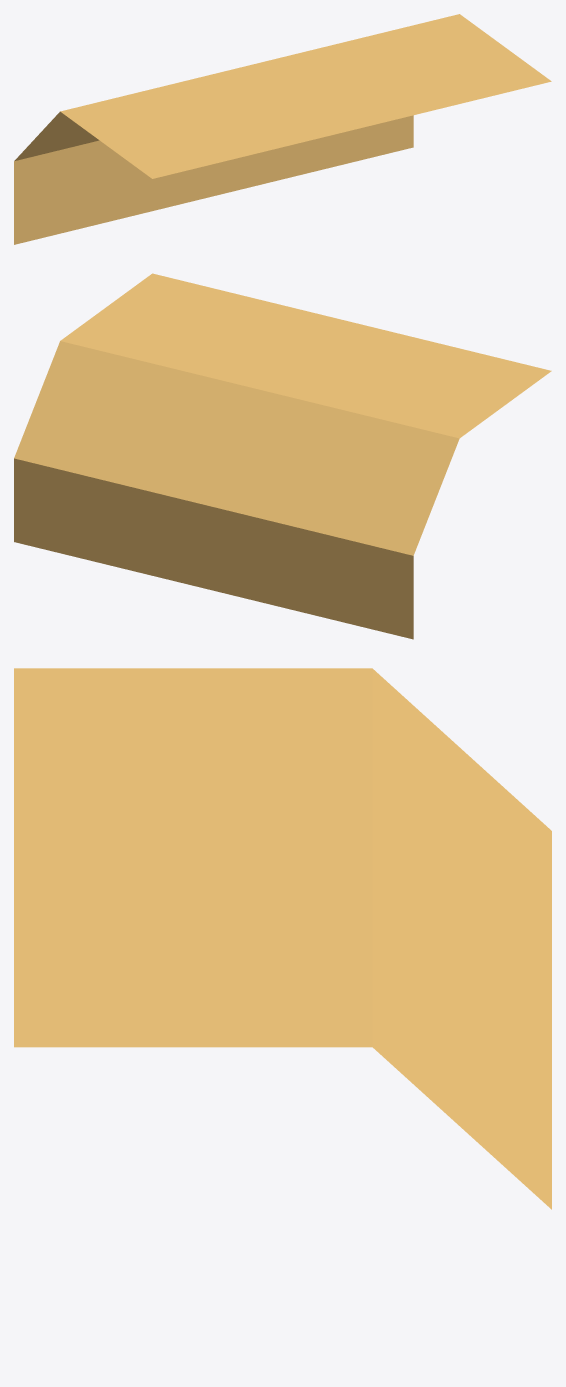
The picture shows the model from 3 angles, top to bottom: view 1: azimuth 30°, elevation 25°; view 2: azimuth 150°, elevation 25°; view 3: azimuth 270°, elevation 25°; orthographic projection. The views are drawn at different scales.
Size of the model in its own units: 1 by 0.4 by 0.6.
